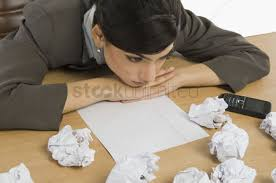crumpled paper: (207, 124, 253, 159), (184, 95, 234, 124), (107, 153, 154, 183), (52, 127, 90, 164), (214, 158, 253, 183), (174, 168, 210, 183)
